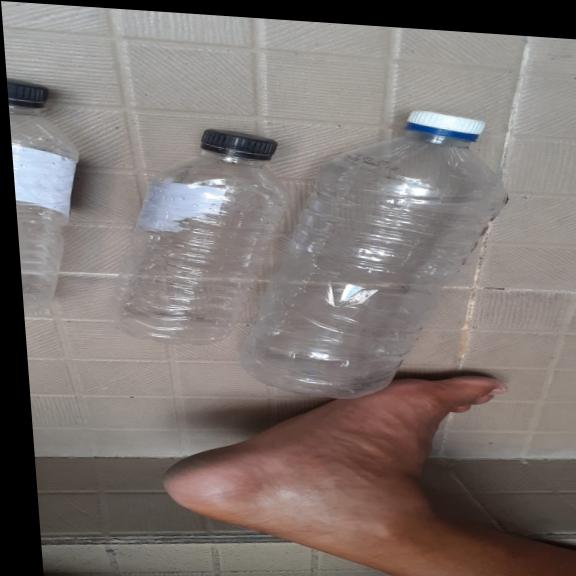Plastik: (217, 92, 515, 409), (95, 117, 292, 357), (6, 76, 87, 313)
